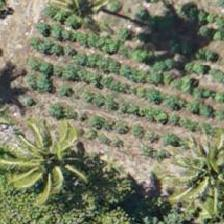coconut_tree: (7, 117, 97, 207), (169, 129, 223, 219)
